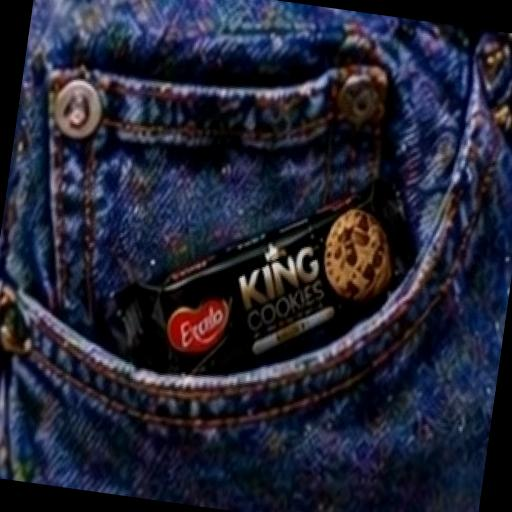king-cooking: (73, 128, 450, 426)
